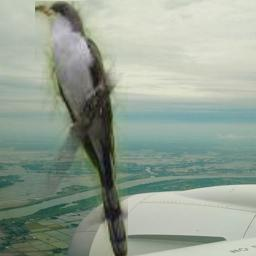Cuckoo: (35, 1, 128, 256)
